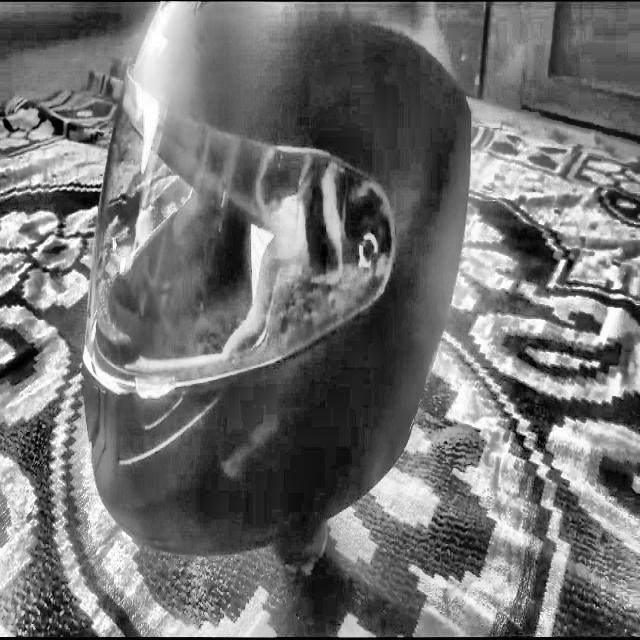Helmet: (81, 0, 477, 579)
